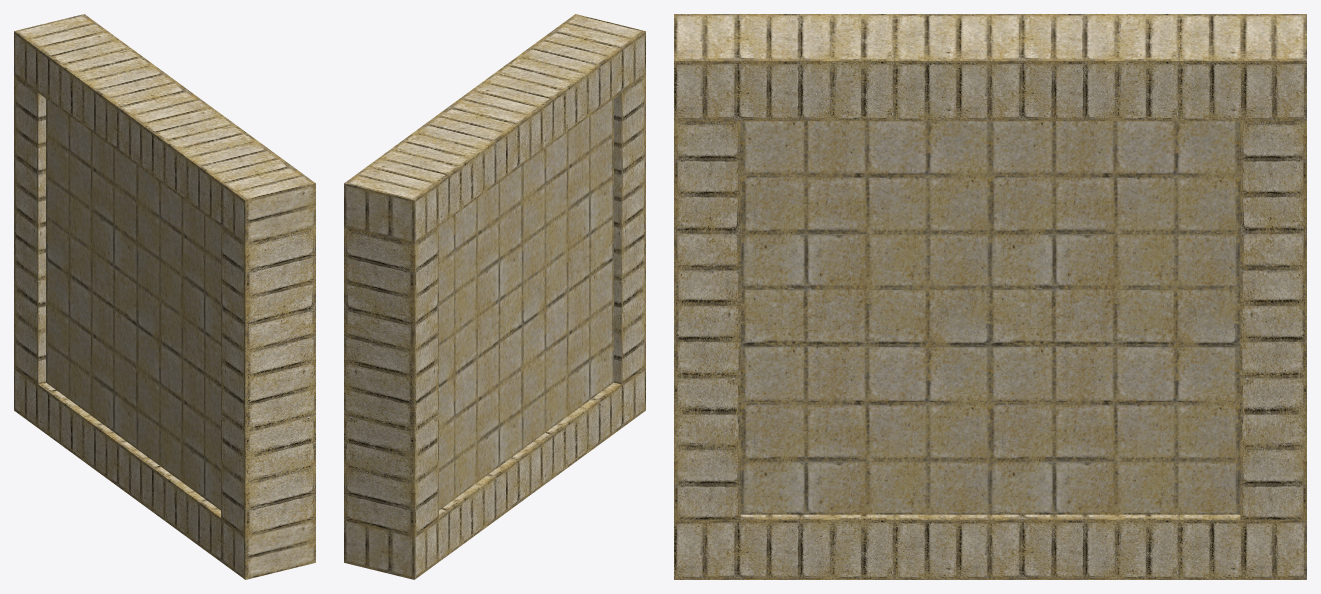
Rendered from bridge_structure_final_gate_door.dae.
3 views of the same model, side by side, from view 1: azimuth 30°, elevation 25°; view 2: azimuth 150°, elevation 25°; view 3: azimuth 270°, elevation 25° (orthographic). The views are drawn at different scales.
Visible parts, largest first — view 1: bridge_structure_final_gate_door; view 2: bridge_structure_final_gate_door; view 3: bridge_structure_final_gate_door.
Part boxes in pixels (x1=…): bridge_structure_final_gate_door: x1=14, y1=14, x2=315, y2=579; bridge_structure_final_gate_door: x1=344, y1=14, x2=645, y2=579; bridge_structure_final_gate_door: x1=674, y1=14, x2=1306, y2=579.
Size of the model in its own units: 0.9892 by 5.63 by 5.09.
Materials: 2 (2 with a texture image).
